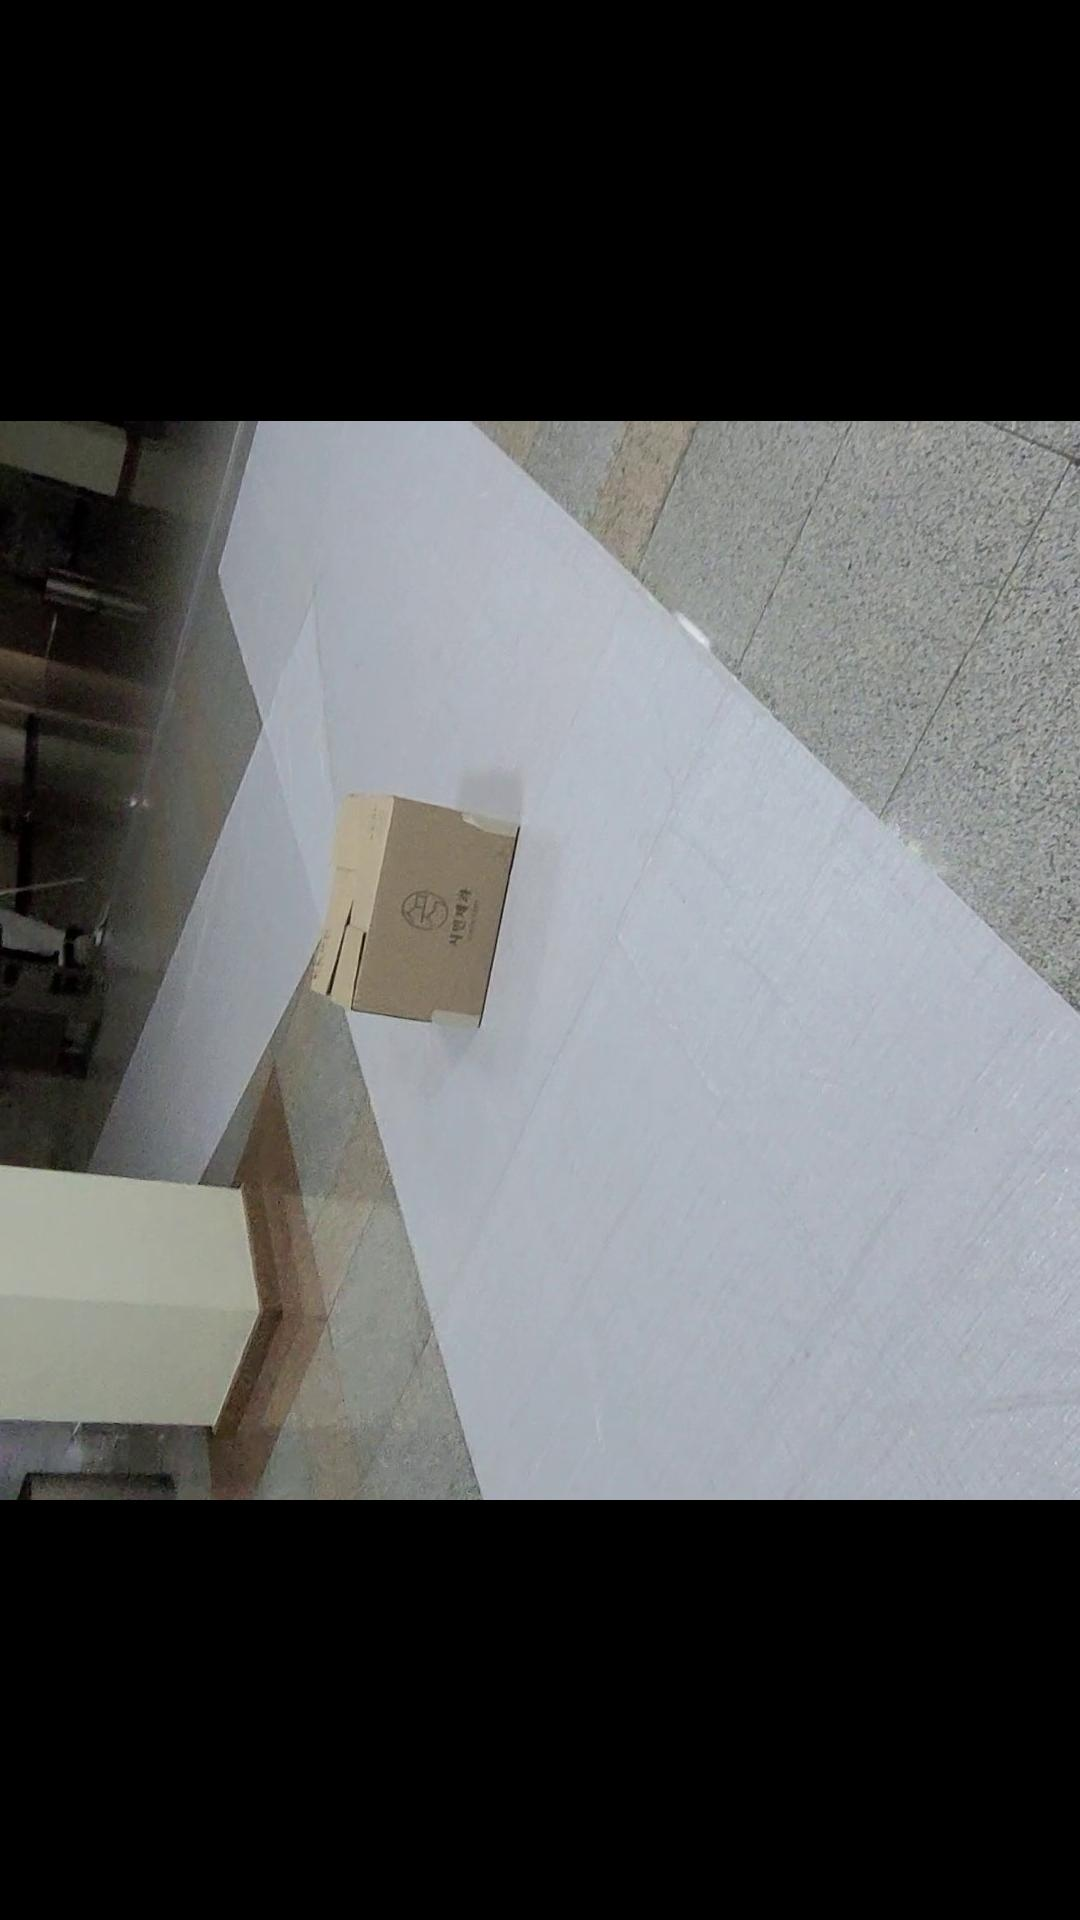Box: (295, 773, 541, 1048)
